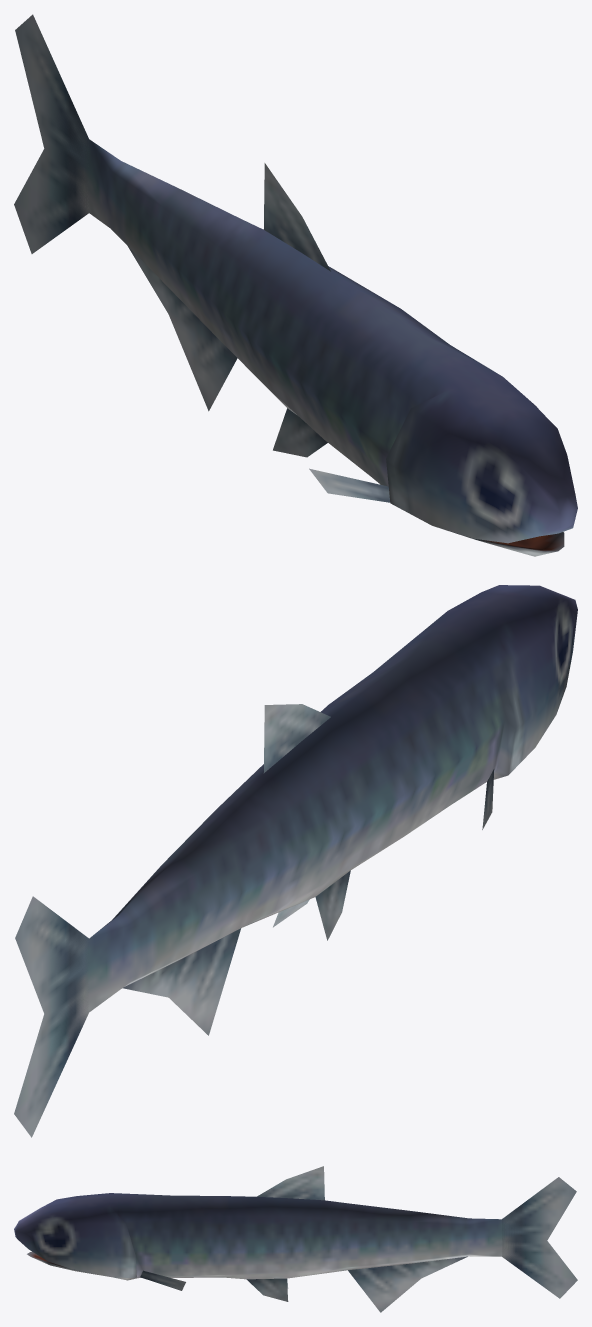
Rendered from anchoby.gltf.
3 views of the same model, one above another, from view 1: azimuth 30°, elevation 25°; view 2: azimuth 150°, elevation 25°; view 3: azimuth 270°, elevation 25° (orthographic). The views are drawn at different scales.
Parts seen in each view (by area): view 1: FishAntyobi__mAntyobi; view 2: FishAntyobi__mAntyobi; view 3: FishAntyobi__mAntyobi.
Part boxes in pixels (bbox=[...]): FishAntyobi__mAntyobi: bbox=[14, 14, 577, 556]; FishAntyobi__mAntyobi: bbox=[14, 585, 577, 1137]; FishAntyobi__mAntyobi: bbox=[14, 1166, 577, 1312].
Bounding box in the file's own units: 0.7809 × 1.18 × 4.1.
1 material, 1 textured.
